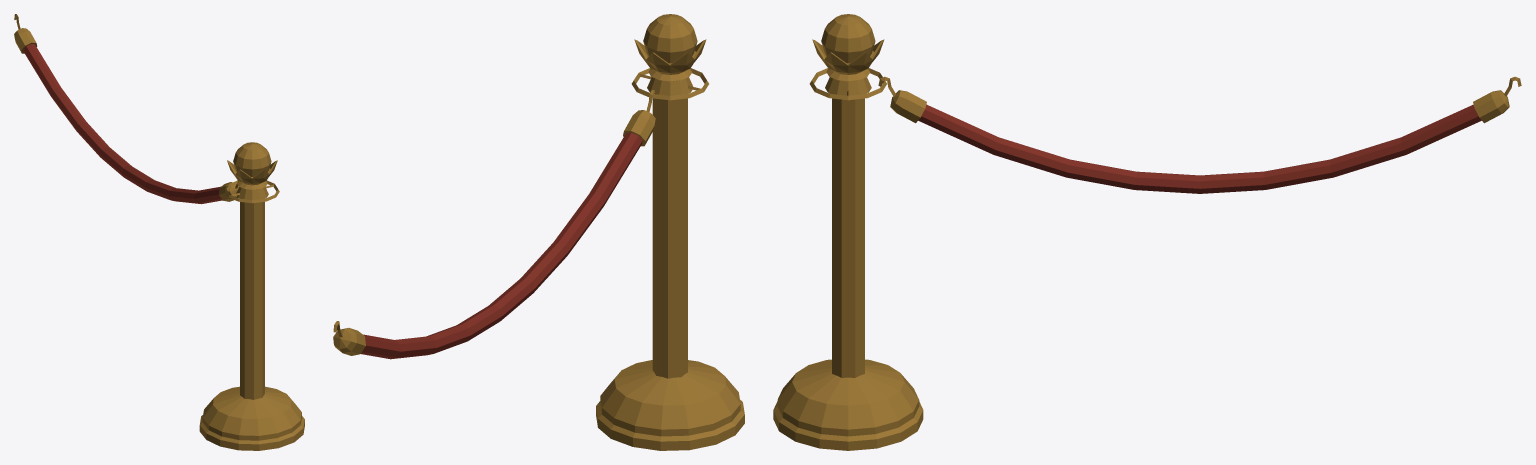
File: velvet-rope-stanchion-0b761a.glb
The picture shows the model from 3 angles, left to right: view 1: azimuth 30°, elevation 25°; view 2: azimuth 150°, elevation 25°; view 3: azimuth 270°, elevation 25°; orthographic projection. The views are drawn at different scales.
Visible parts, largest first — view 1: post, rope-swag; view 2: post, rope-swag; view 3: post, rope-swag.
Part boxes in pixels (box(x1,y1,x2,y2)): post: box(199, 142, 304, 450); rope-swag: box(14, 14, 238, 204); post: box(596, 14, 744, 450); rope-swag: box(333, 90, 655, 359); post: box(773, 14, 923, 450); rope-swag: box(878, 76, 1521, 193).
Bounding box in the file's own units: 0.32 × 0.948 × 1.6.
